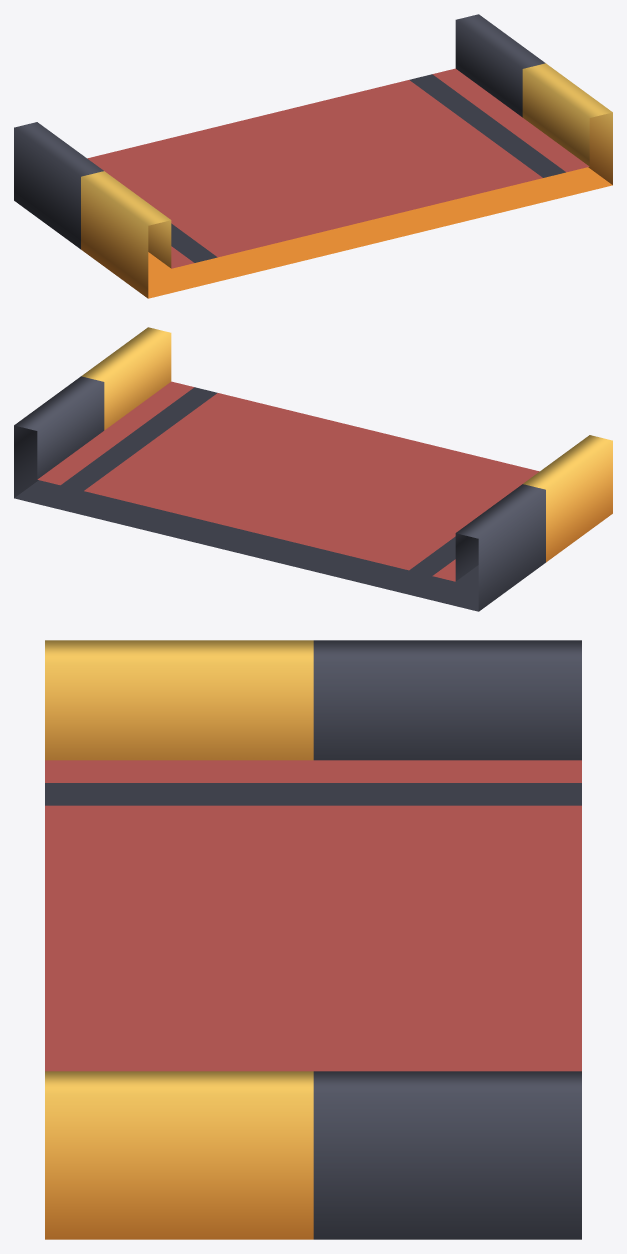
The model's file is track-road-wide.fbx.
3 renders of one model, top to bottom at view 1: azimuth 30°, elevation 25°; view 2: azimuth 150°, elevation 25°; view 3: azimuth 270°, elevation 25°, orthographic. The views are drawn at different scales.
Parts seen in each view (by area): view 1: track-road-wide; view 2: track-road-wide; view 3: track-road-wide.
Boxes of the visible parts, x1,y1,x2,y2 form: track-road-wide: [14, 14, 612, 298]; track-road-wide: [14, 327, 612, 611]; track-road-wide: [45, 640, 581, 1239].
Bounding box in the file's own units: 200 × 30 × 100.
